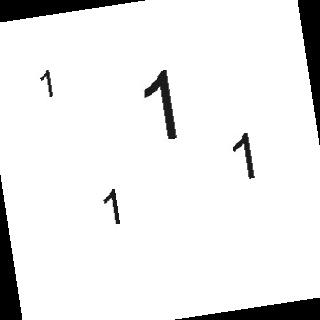one: (134, 68, 208, 142), (220, 131, 271, 182), (94, 187, 133, 226), (34, 68, 64, 98)
